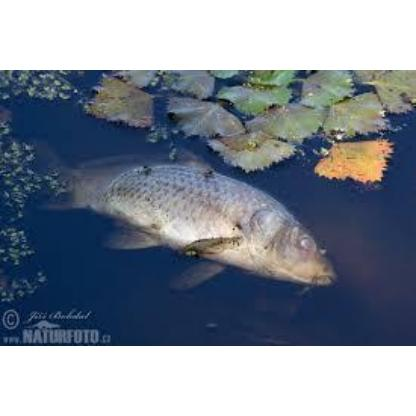ikan-mas: (45, 148, 343, 286)
